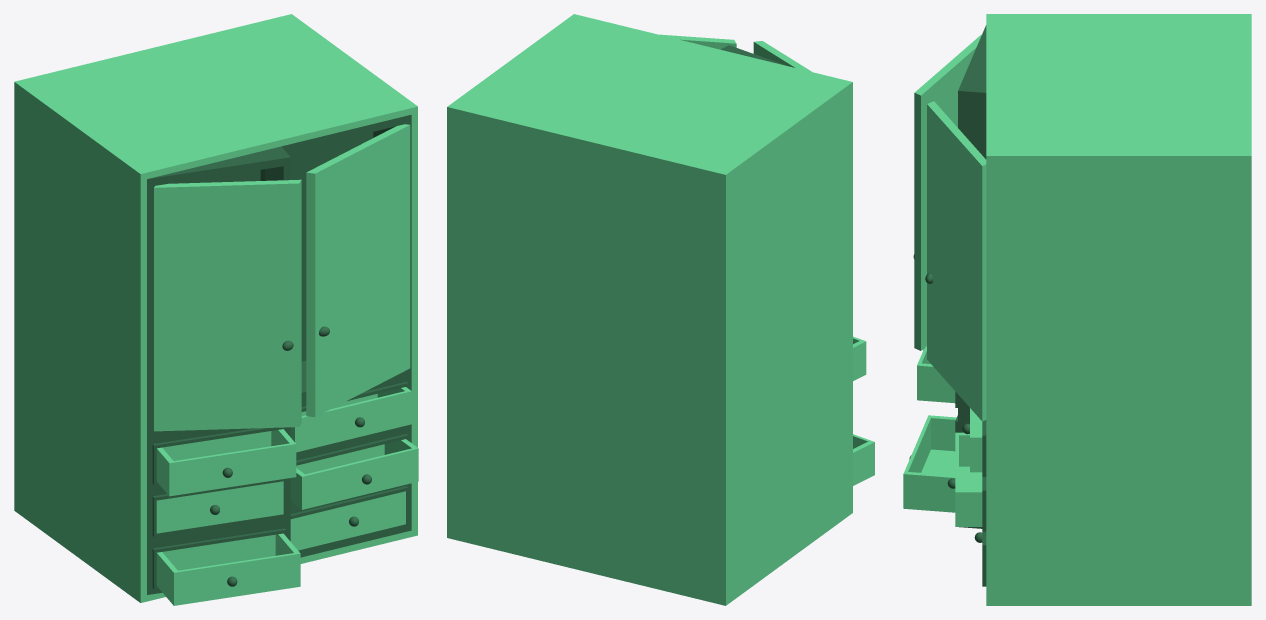
The model's file is daraz 1.fbx.
3 views of the same model, side by side, from view 1: azimuth 30°, elevation 25°; view 2: azimuth 150°, elevation 25°; view 3: azimuth 270°, elevation 25° (orthographic). The views are drawn at different scales.
Visible parts, largest first — view 1: Cube.049, Cube.059, Cube.058, Cube.051, Cube.050, Cube.053, Cube.056, Cube.055, Cube.054, Cube.057, Cube.052; view 2: Cube.049, Cube.053, Cube.059; view 3: Cube.049, Cube.058, Cube.059, Cube.053, Cube.051, Cube.055, Cube.056, Cube.050, Cube.054.
Boxes of the visible parts, x1,y1,x2,y2 form: Cube.049: [14, 14, 417, 602]; Cube.059: [154, 179, 301, 431]; Cube.058: [306, 124, 410, 416]; Cube.051: [147, 146, 290, 594]; Cube.050: [260, 114, 411, 557]; Cube.053: [156, 533, 300, 605]; Cube.056: [156, 429, 296, 496]; Cube.055: [290, 439, 418, 509]; Cube.054: [290, 387, 411, 452]; Cube.057: [156, 481, 283, 533]; Cube.052: [290, 491, 405, 550]; Cube.049: [447, 14, 852, 605]; Cube.053: [853, 434, 874, 485]; Cube.059: [753, 41, 811, 71]; Cube.049: [986, 14, 1251, 605]; Cube.058: [927, 101, 986, 421]; Cube.059: [914, 34, 981, 350]; Cube.053: [903, 415, 956, 512]; Cube.051: [955, 25, 986, 528]; Cube.055: [955, 432, 982, 526]; Cube.056: [917, 346, 955, 403]; Cube.050: [982, 420, 986, 586]; Cube.054: [970, 408, 982, 472].
Bounding box in the file's own units: 66.44 × 98.14 × 68.83.
